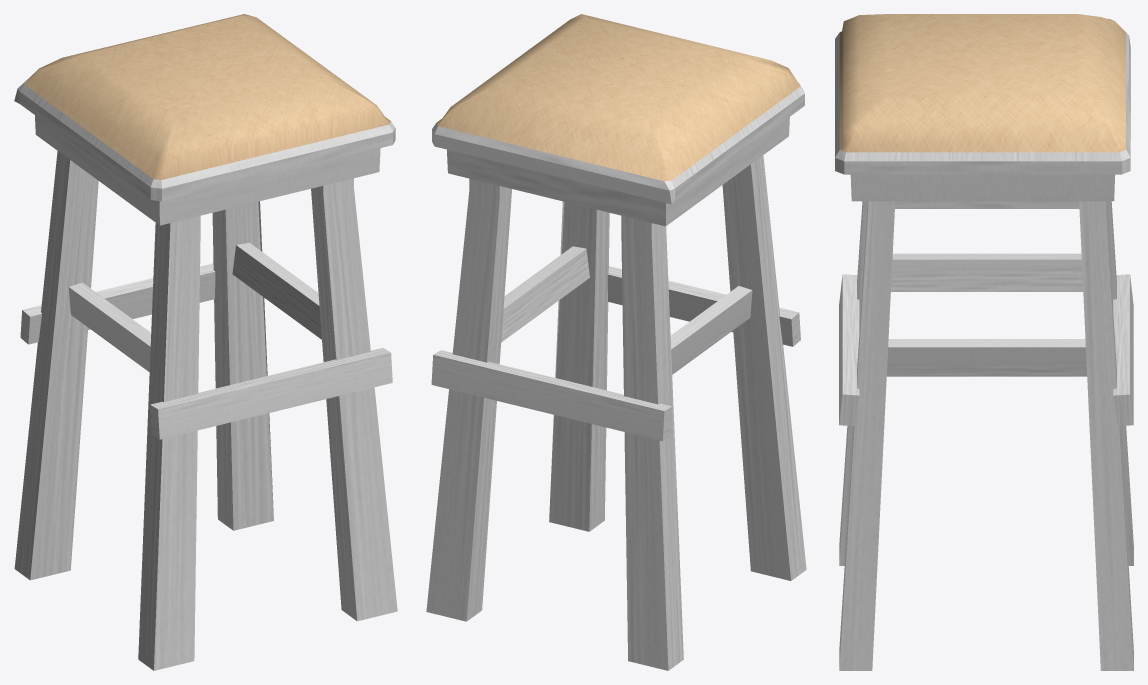
Rendered from Barstool_F_2.FBX.
The picture shows the model from 3 angles, left to right: view 1: azimuth 30°, elevation 25°; view 2: azimuth 150°, elevation 25°; view 3: azimuth 270°, elevation 25°; orthographic projection. The views are drawn at different scales.
Parts seen in each view (by area): view 1: Bar_Stool; view 2: Bar_Stool; view 3: Bar_Stool.
Boxes of the visible parts, box(x1,y1,x2,y2) form: Bar_Stool: box(14, 14, 397, 670); Bar_Stool: box(426, 14, 806, 670); Bar_Stool: box(835, 14, 1133, 670).
Bounding box in the file's own units: 85.32 × 174 × 84.9.
